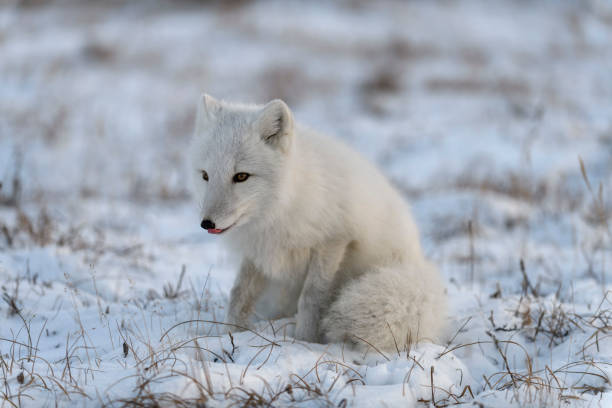arcticfox: (185, 129, 285, 255)
